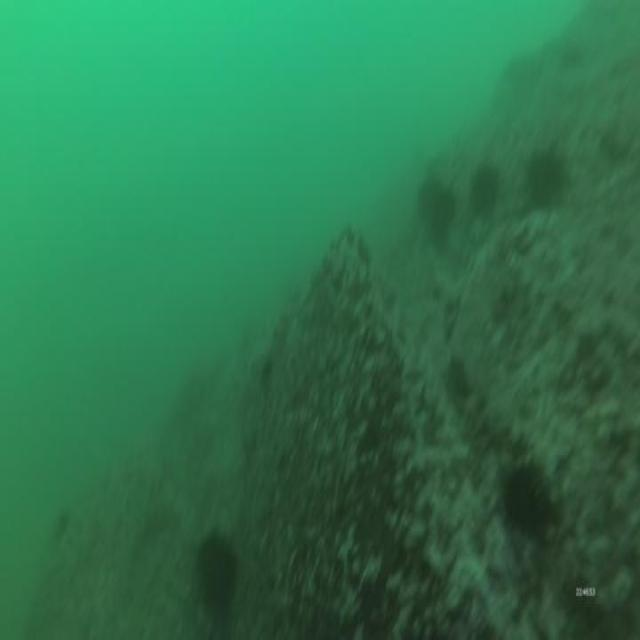echinus: (193, 523, 243, 634), (496, 457, 552, 545), (418, 172, 458, 252), (524, 145, 568, 212), (466, 156, 506, 220)
